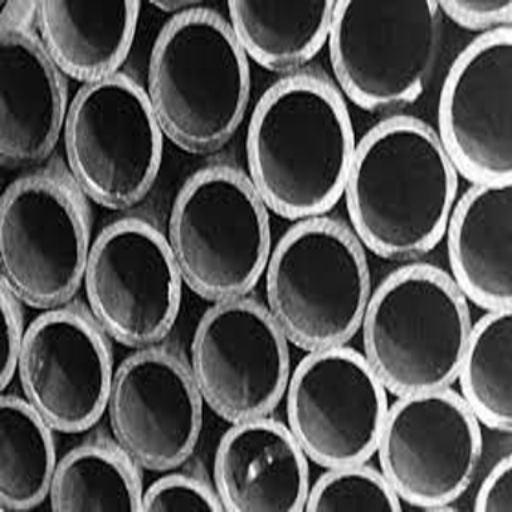Square: (252, 80, 346, 210), (355, 124, 451, 250), (151, 16, 241, 142), (271, 225, 363, 346), (370, 271, 464, 387), (175, 175, 263, 290), (292, 355, 383, 463), (336, 0, 436, 98), (72, 81, 155, 199), (91, 225, 175, 339), (444, 37, 511, 179), (193, 307, 283, 412), (0, 185, 82, 300), (385, 392, 475, 496), (21, 315, 106, 423), (112, 357, 196, 462), (220, 425, 302, 511), (452, 183, 511, 300), (0, 33, 56, 154), (234, 0, 327, 66), (44, 0, 131, 70), (0, 403, 50, 502), (467, 312, 511, 423), (56, 452, 136, 511), (313, 469, 392, 511), (148, 481, 214, 511), (479, 461, 511, 511), (0, 295, 17, 371), (449, 0, 511, 20)
